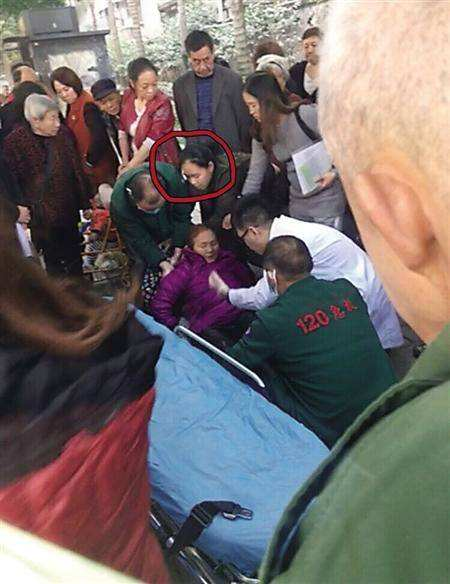10+: (5, 1, 444, 579)
down: (149, 215, 280, 381)
